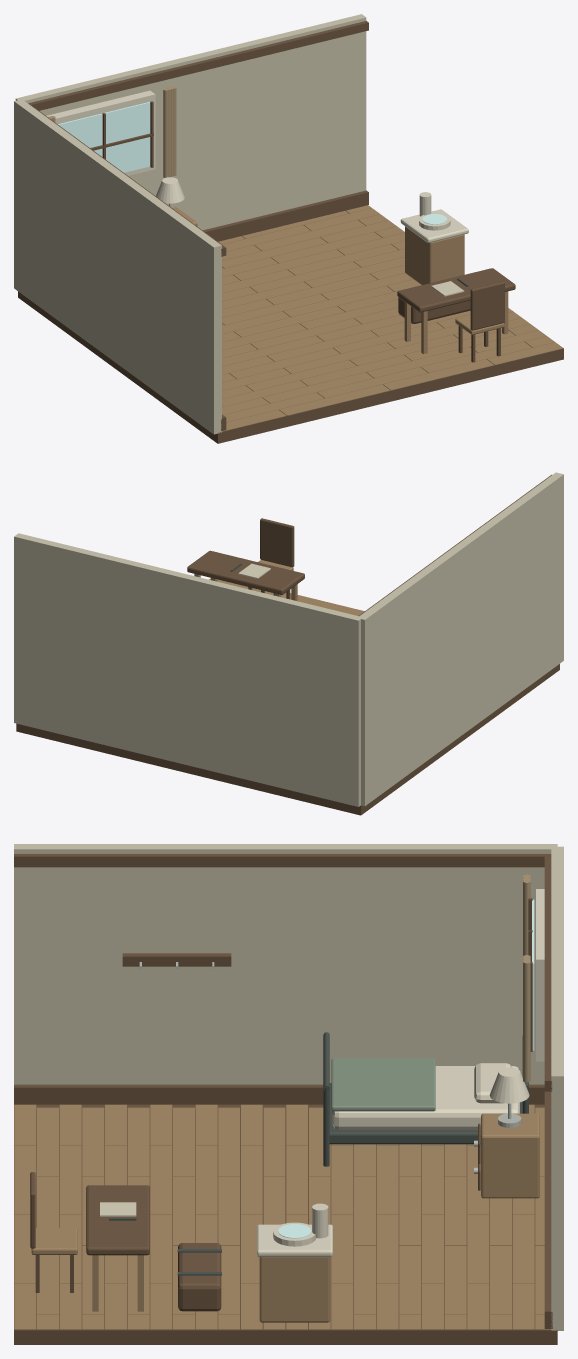
File: interior-lodging-room.glb
3 renders of one model, top to bottom at view 1: azimuth 30°, elevation 25°; view 2: azimuth 150°, elevation 25°; view 3: azimuth 270°, elevation 25°, orthographic. The views are drawn at different scales.
Visible parts, largest first — view 1: pine floorboard, west plaster, back plaster, room base, back molding, window glazing, mattress, window frame, curtain fold; view 2: back plaster, west plaster, room base, pine floorboard; view 3: west plaster, pine floorboard, room base, west molding, mattress, back plaster, folded blanket, back molding, iron bed frame, window frame, curtain fold.
Part boxes in pixels (x1,y1,x2,y2): pine floorboard: (172,205,563,431); west plaster: (14,100,221,434); back plaster: (15,14,366,230); room base: (18,220,563,443); back molding: (28,21,368,241); window glazing: (58,102,150,172); mattress: (156,177,468,242); window frame: (46,90,155,175); curtain fold: (48,86,176,177); back plaster: (14,533,362,806); west plaster: (359,472,563,806); room base: (16,518,559,815); pine floorboard: (194,560,364,615); west plaster: (14,844,557,1084); pine floorboard: (14,1104,551,1329); room base: (14,1104,557,1344); west molding: (14,854,551,1104); mattress: (257,1063,529,1256); back plaster: (551,846,563,1330); folded blanket: (331,1058,435,1111); back molding: (528,854,552,1328); iron bed frame: (109,1032,528,1275); window frame: (536,889,544,1061); curtain fold: (523,874,530,1082).
Bounding box in the file's own units: 6.07 × 3.27 × 6.07.
